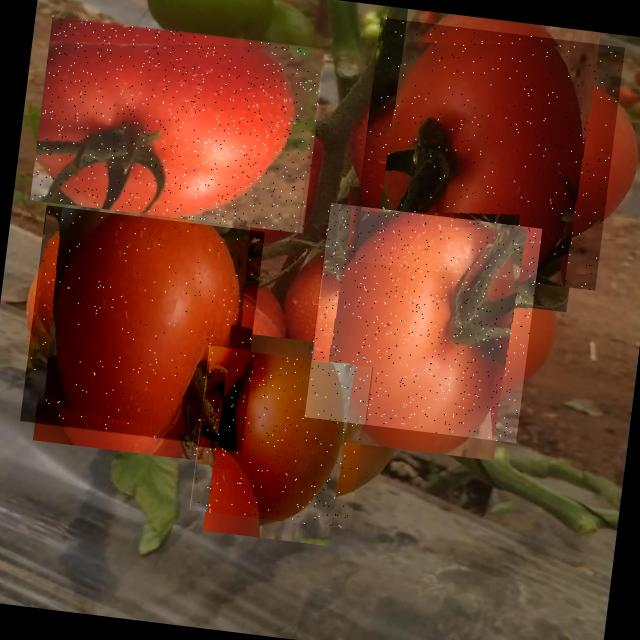Ripe Tomato: (350, 17, 624, 290), (29, 15, 326, 233), (19, 205, 264, 450), (300, 202, 542, 443), (186, 346, 370, 530)
